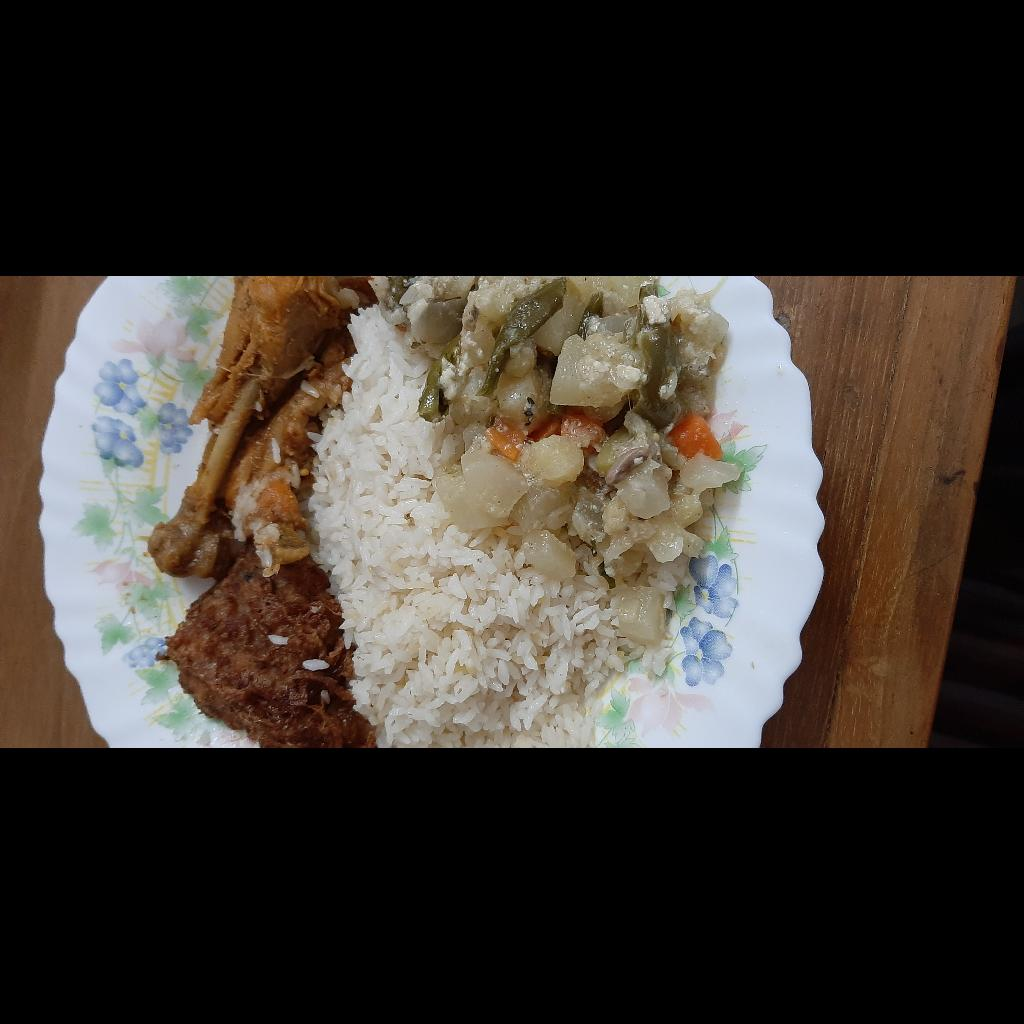beef: (0, 424, 472, 651)
rice: (0, 586, 443, 941)
vegetable: (162, 673, 472, 1014)
